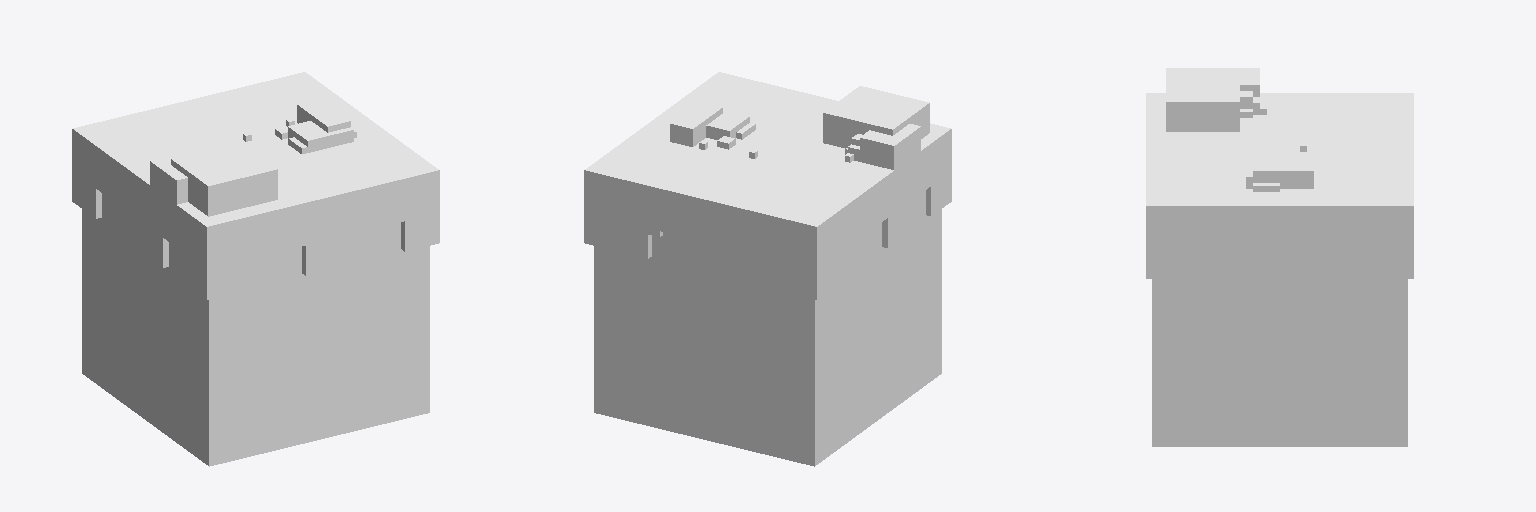
File: tile_base_top_3.obj
3 views of the same model, side by side, from view 1: azimuth 30°, elevation 25°; view 2: azimuth 150°, elevation 25°; view 3: azimuth 270°, elevation 25° (orthographic).
Parts seen in each view (by area): view 1: tile_base_top_3; view 2: tile_base_top_3; view 3: tile_base_top_3.
Boxes of the visible parts, x1,y1,x2,y2 form: tile_base_top_3: [72, 72, 439, 466]; tile_base_top_3: [584, 72, 951, 466]; tile_base_top_3: [1146, 68, 1413, 446].
Size of the model in its own units: 40 by 45 by 40.